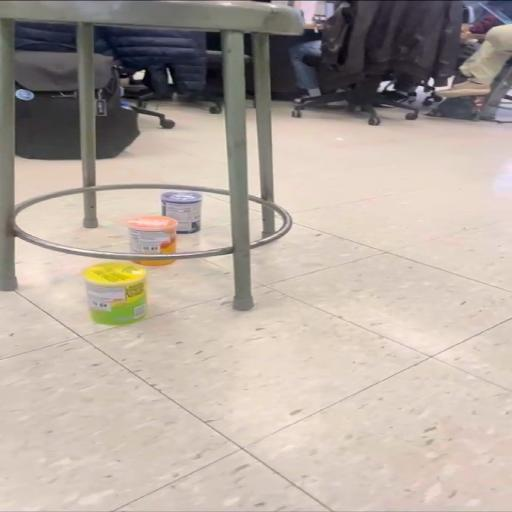pringle can: (84, 259, 148, 326), (128, 215, 177, 253), (163, 192, 204, 234)
